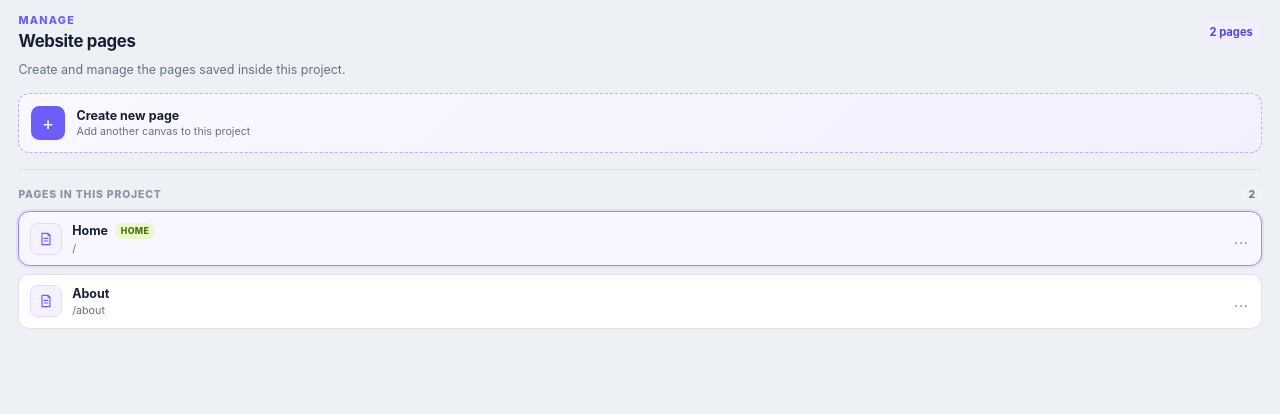
Test: PagesPanel › should focus page forms and restore focus when creation is canceled with Escape
Click the button "Create new page" at [48, 123], box x1=18 y1=93 x2=1262 y2=153
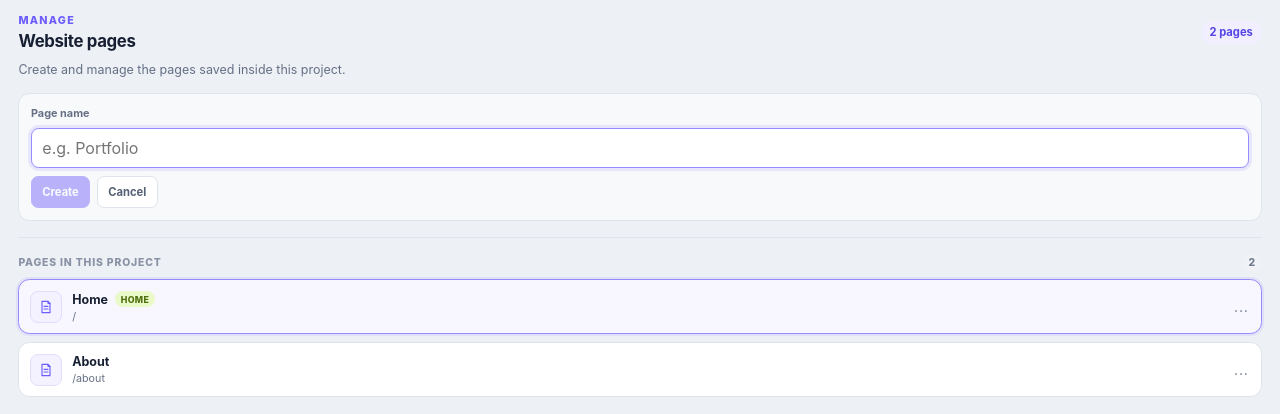
Press Escape in the field labelled "Page name", box x1=31 y1=128 x2=1249 y2=168
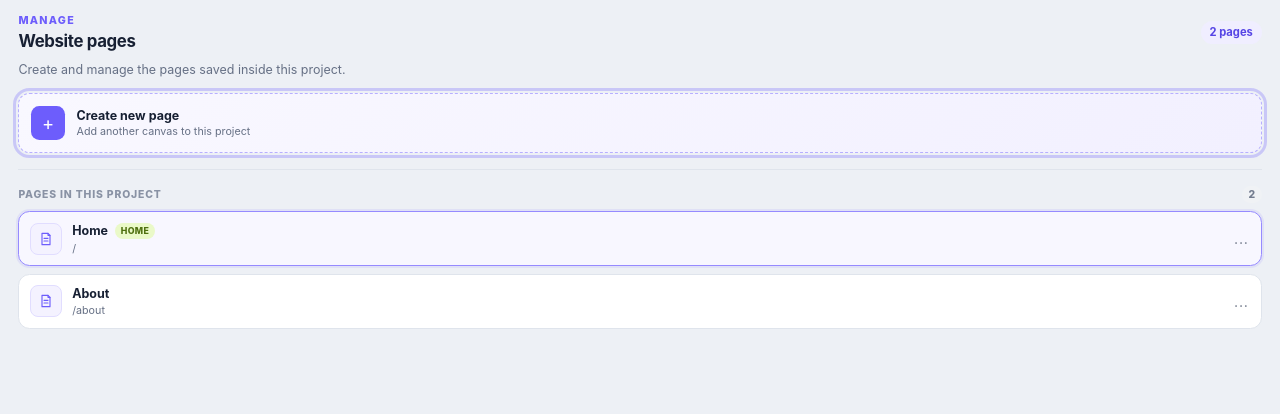
Check: the label "Page name" is gone
